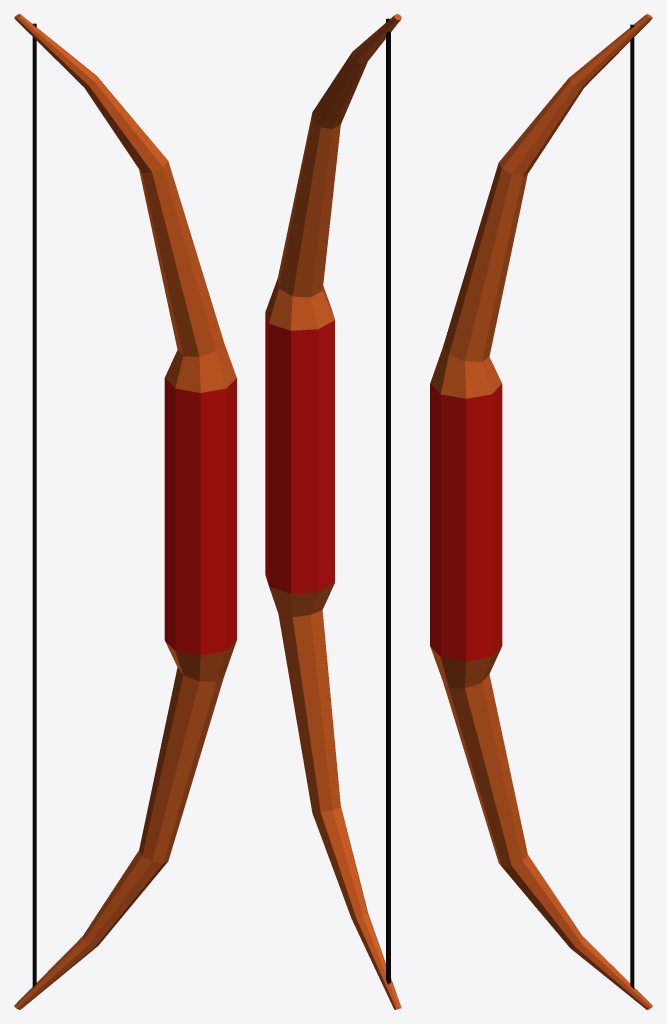
3 renders of one model, left to right at view 1: azimuth 90°, elevation 25°; view 2: azimuth 210°, elevation 25°; view 3: azimuth 270°, elevation 25°, orthographic.
Visible parts, largest first — view 1: Cube.001; view 2: Cube.001; view 3: Cube.001.
Part boxes in pixels (x1,y1,x2,y2): Cube.001: (14,14,236,1009); Cube.001: (265,14,401,1009); Cube.001: (430,14,652,1009).
Bounding box in the file's own units: 6.21 × 94.49 × 19.18.
